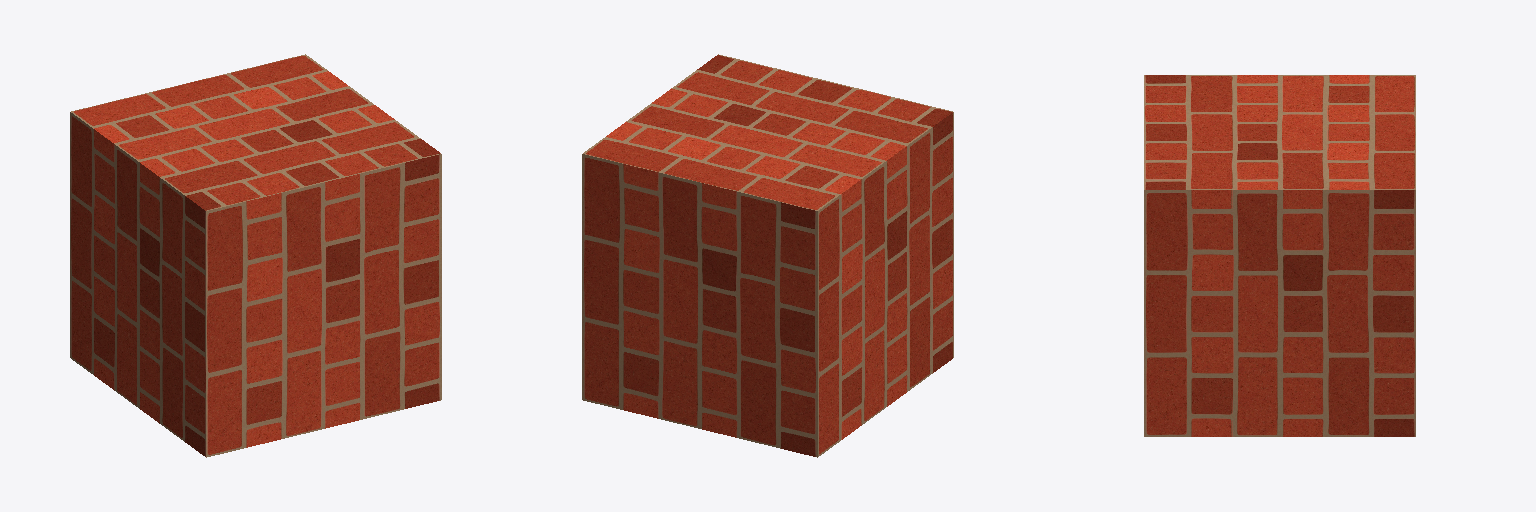
3 renders of one model, left to right at view 1: azimuth 30°, elevation 25°; view 2: azimuth 150°, elevation 25°; view 3: azimuth 270°, elevation 25°, orthographic.
Visible parts, largest first — view 1: Cube; view 2: Cube; view 3: Cube.
Boxes of the visible parts, <box> form: Cube: <box>70,54,441,457</box>; Cube: <box>582,54,953,457</box>; Cube: <box>1144,75,1415,436</box>.
Size of the model in its own units: 2 by 2 by 2.
1 materials, 1 textured.